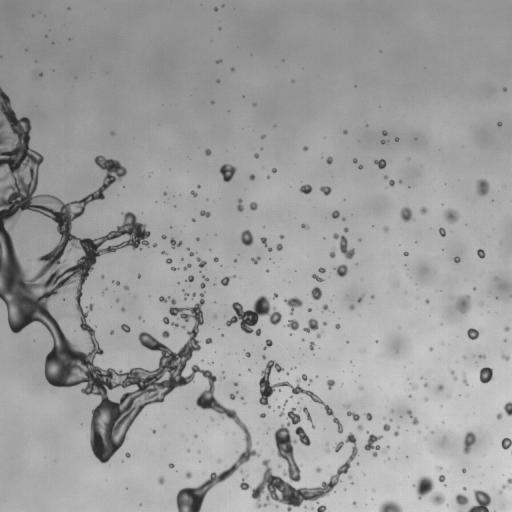droplet: (240, 407, 357, 511), (225, 295, 281, 335), (467, 489, 491, 511), (364, 432, 382, 457), (413, 476, 433, 498), (284, 297, 302, 315), (220, 164, 236, 182), (462, 432, 475, 453), (456, 295, 471, 313), (303, 318, 318, 333), (479, 367, 493, 383), (476, 179, 489, 195), (444, 209, 458, 223), (430, 492, 445, 505), (241, 230, 253, 245), (400, 207, 412, 221), (334, 264, 347, 276), (455, 494, 468, 505), (287, 319, 299, 330), (311, 286, 321, 299), (467, 328, 478, 339), (300, 184, 311, 194), (501, 438, 511, 449), (334, 441, 344, 452), (200, 275, 208, 288), (374, 159, 385, 168), (320, 186, 331, 195), (170, 238, 181, 247), (502, 478, 511, 489), (504, 401, 511, 415), (197, 257, 206, 267), (221, 276, 231, 285), (326, 379, 335, 388), (477, 249, 485, 258), (121, 324, 130, 332), (200, 210, 210, 217), (249, 202, 257, 210), (332, 210, 339, 218), (383, 423, 390, 431), (438, 474, 445, 482), (439, 227, 445, 236), (261, 237, 267, 246), (317, 505, 326, 511), (365, 413, 372, 420), (251, 257, 259, 263), (159, 296, 167, 302), (501, 354, 509, 360), (309, 341, 314, 350), (326, 157, 332, 164), (420, 207, 426, 214), (276, 243, 282, 250), (329, 250, 335, 257), (183, 264, 190, 270), (162, 331, 169, 337), (158, 477, 164, 484), (205, 149, 211, 155), (454, 256, 460, 262), (187, 275, 193, 281), (316, 332, 322, 338), (229, 393, 235, 399), (496, 413, 502, 419), (190, 191, 197, 196), (318, 268, 325, 273), (205, 338, 212, 343), (249, 174, 254, 180), (389, 180, 394, 186), (166, 258, 172, 263), (322, 304, 328, 309), (437, 385, 443, 390), (186, 472, 191, 478), (301, 224, 308, 228), (382, 130, 387, 135), (124, 285, 129, 290), (349, 304, 354, 309), (504, 326, 509, 331), (245, 352, 250, 357), (279, 411, 284, 416), (357, 425, 362, 430), (125, 452, 130, 457), (316, 467, 321, 472), (184, 292, 188, 298), (272, 294, 278, 298), (358, 296, 362, 302), (463, 378, 467, 384), (254, 153, 258, 158), (353, 158, 357, 163), (384, 226, 388, 231), (335, 324, 340, 328), (260, 413, 265, 417), (394, 431, 398, 436), (169, 463, 173, 468), (171, 267, 177, 270), (497, 122, 501, 126), (343, 130, 347, 134), (303, 146, 307, 150), (358, 165, 362, 169), (272, 168, 276, 172), (344, 227, 348, 231), (162, 235, 166, 239), (189, 252, 193, 256), (214, 257, 218, 261), (425, 299, 429, 303), (437, 466, 441, 470), (479, 355, 484, 358), (217, 60, 221, 63), (381, 140, 385, 143), (268, 247, 271, 251), (162, 251, 166, 254), (404, 252, 408, 255), (115, 282, 119, 285), (424, 397, 427, 401), (462, 468, 465, 472), (462, 487, 466, 490), (352, 501, 356, 504), (503, 88, 506, 91), (111, 132, 114, 135), (395, 138, 398, 141), (163, 192, 166, 195), (280, 235, 283, 238), (153, 243, 156, 246), (213, 315, 216, 318), (323, 322, 326, 325), (110, 331, 113, 334), (429, 347, 432, 350), (234, 382, 237, 385), (424, 383, 427, 386), (214, 8, 217, 10), (231, 68, 234, 70), (262, 135, 264, 138), (384, 176, 387, 178), (197, 185, 200, 187), (196, 238, 199, 240), (266, 269, 268, 272), (192, 293, 195, 295), (121, 308, 124, 310), (308, 308, 310, 311), (182, 325, 184, 328), (262, 356, 265, 358), (152, 430, 155, 432), (326, 449, 328, 452), (218, 459, 220, 462), (217, 80, 219, 82), (399, 180, 401, 182), (343, 218, 345, 220), (413, 387, 415, 389)
ligament: (0, 87, 259, 511), (259, 360, 342, 433), (333, 233, 354, 259), (378, 500, 402, 511), (302, 407, 314, 428), (344, 404, 359, 420), (407, 410, 418, 425), (163, 317, 178, 327), (263, 339, 272, 349), (237, 198, 243, 211), (312, 274, 322, 281), (450, 370, 456, 380), (383, 446, 389, 452), (284, 400, 287, 404)
